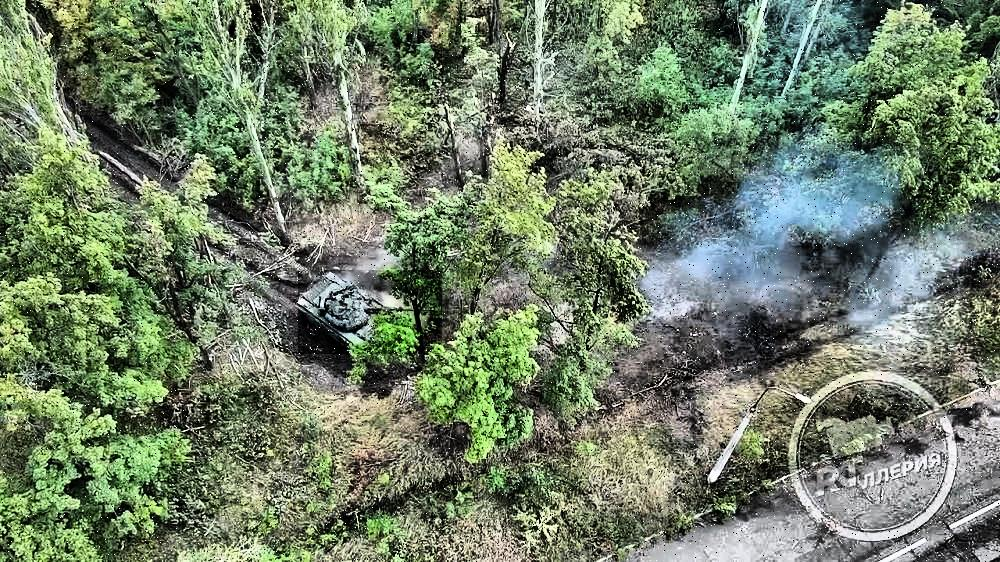military-vehicle: (299, 271, 443, 355)
